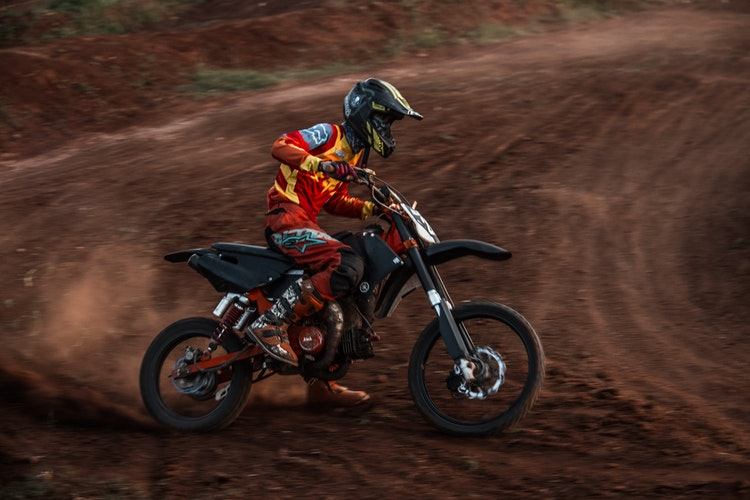helmet: (338, 72, 409, 161)
